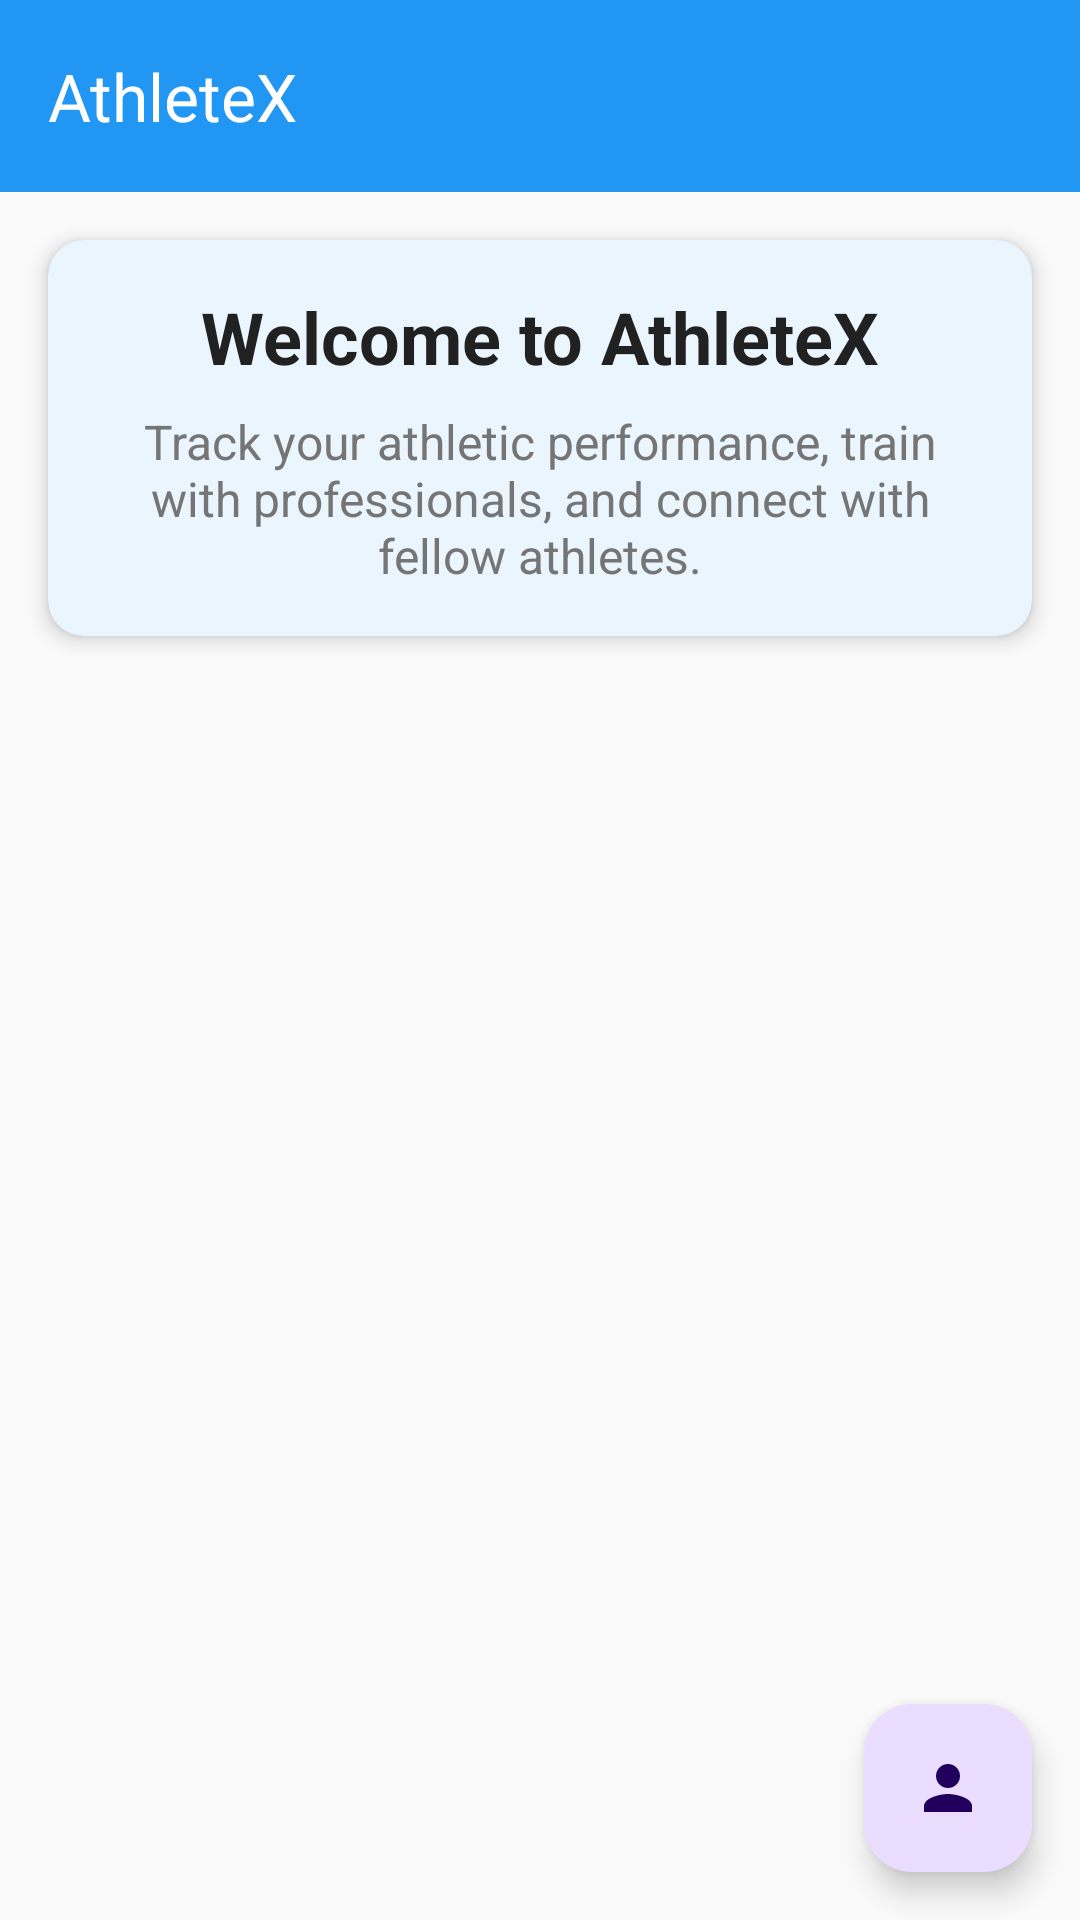

Where icons sit on this 1080px x 1920px app screen, as {"x1": x1, "y1": y1, "x2": x2, "y2": y2}:
Profile: {"x1": 924, "y1": 1764, "x2": 972, "y2": 1812}
